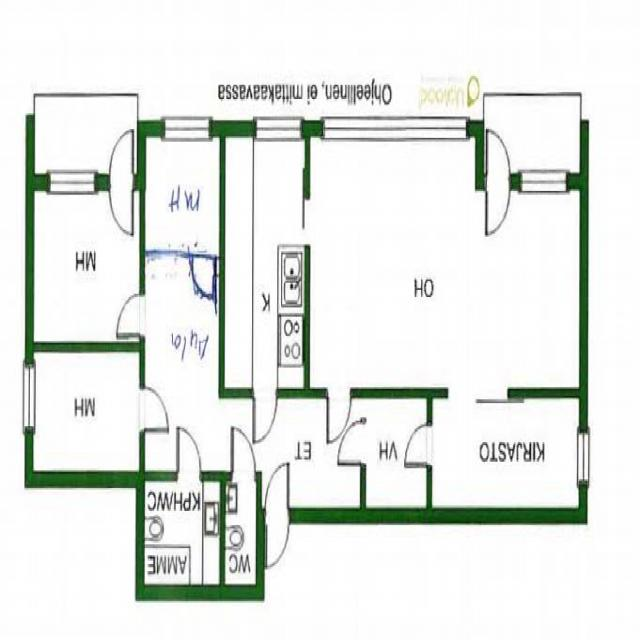door: (486, 128, 510, 190), (486, 173, 510, 234), (109, 130, 133, 191), (109, 174, 133, 235), (266, 508, 289, 567), (266, 464, 289, 523), (177, 426, 201, 481), (253, 390, 277, 444), (327, 390, 351, 443), (338, 421, 366, 464), (192, 250, 215, 301), (232, 428, 254, 481), (140, 388, 167, 430), (118, 294, 144, 336), (406, 425, 432, 466)
